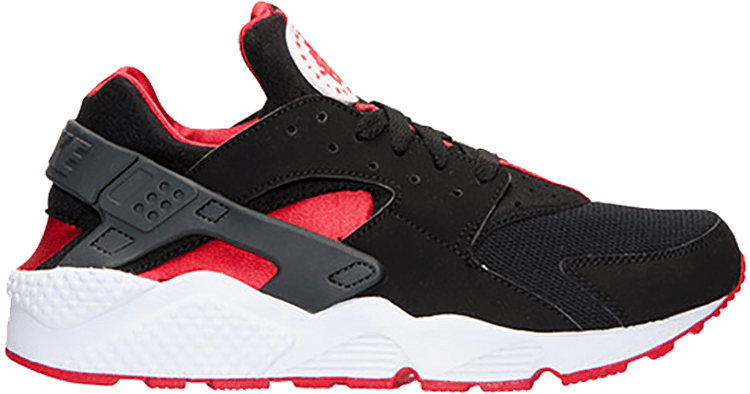Air Huarache Bred: (8, 1, 749, 388)
